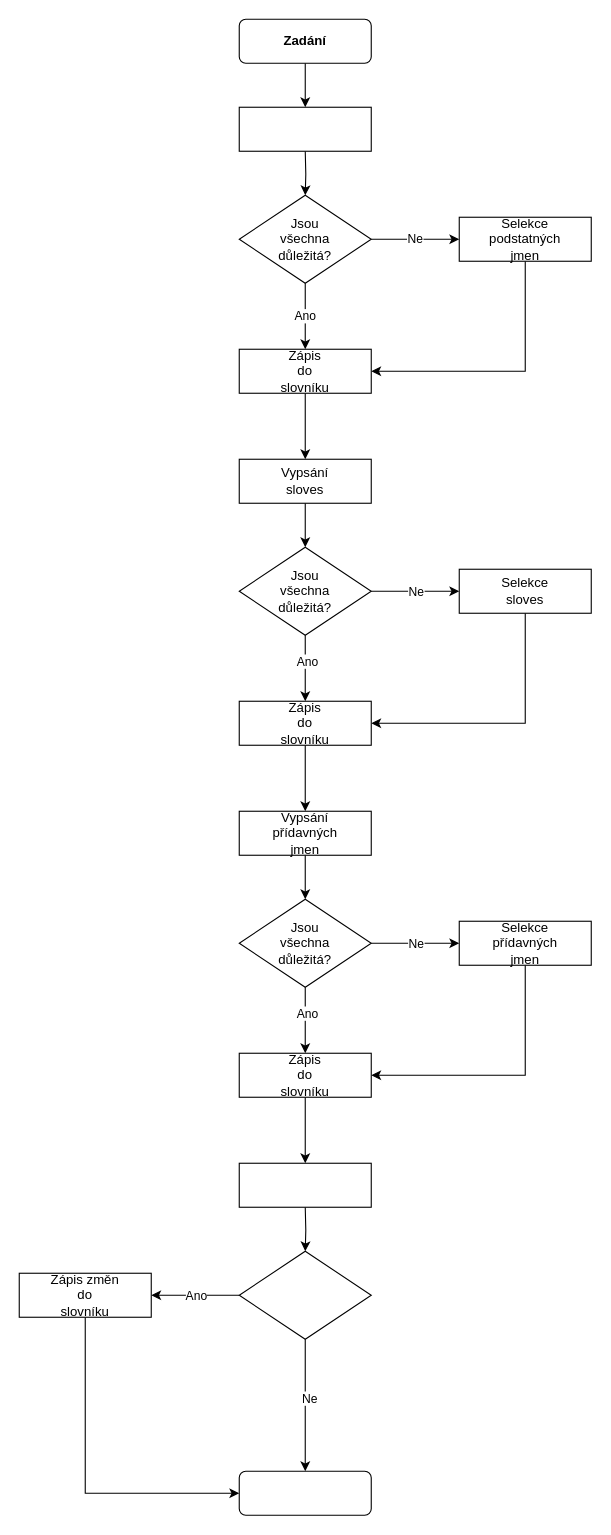
The diagram is 611 pixels wide and 1535 high, and some of its shapes have lost their labels. The centre of each missing label's shape, as x and y in pixels:
"Došlo ke změnám" goes at [304,1294].
"Formování objektového modelu" goes at [304,1184].
"Hotová lexikální analýza" goes at [304,1492].
"Vypsání podstatných jmen" goes at [304,128].
